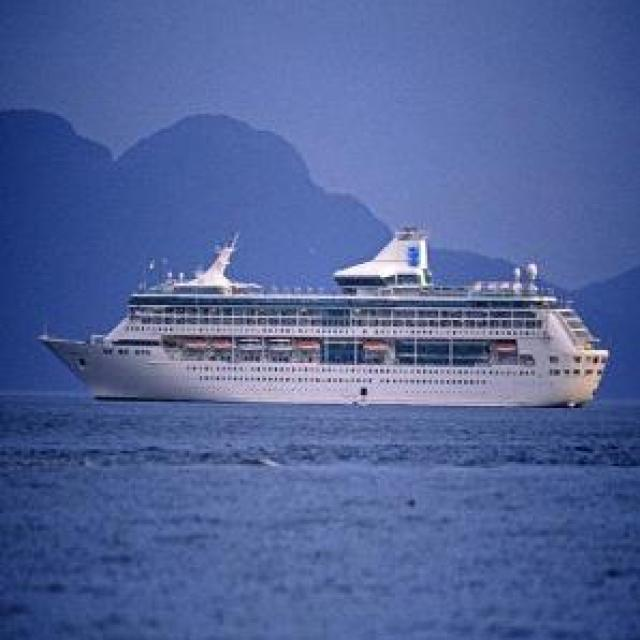passenger ship: (38, 214, 610, 410)
